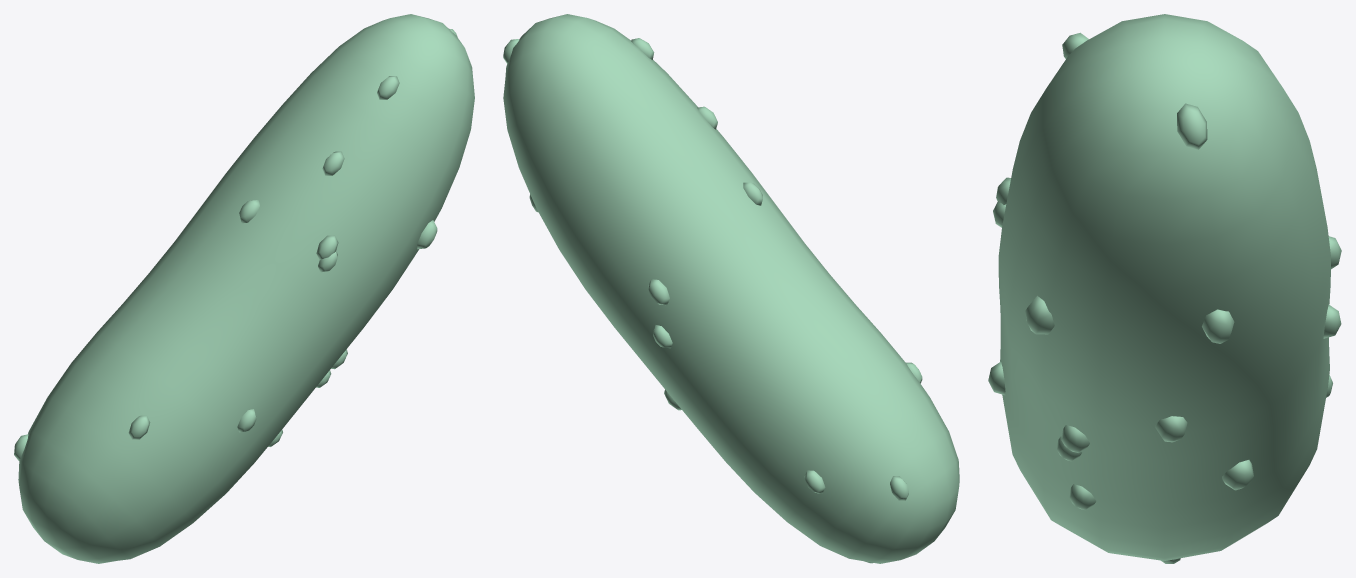
The model's file is cucumber.gltf.
3 views of the same model, side by side, from view 1: azimuth 30°, elevation 25°; view 2: azimuth 150°, elevation 25°; view 3: azimuth 270°, elevation 25° (orthographic). The views are drawn at different scales.
Parts seen in each view (by area): view 1: cucumber; view 2: cucumber; view 3: cucumber.
Boxes of the visible parts, <box> form: cucumber: <box>14,14,474,563</box>; cucumber: <box>503,14,959,563</box>; cucumber: <box>988,14,1341,563</box>.
Size of the model in its own units: 2.22 by 2.26 by 0.9257.
